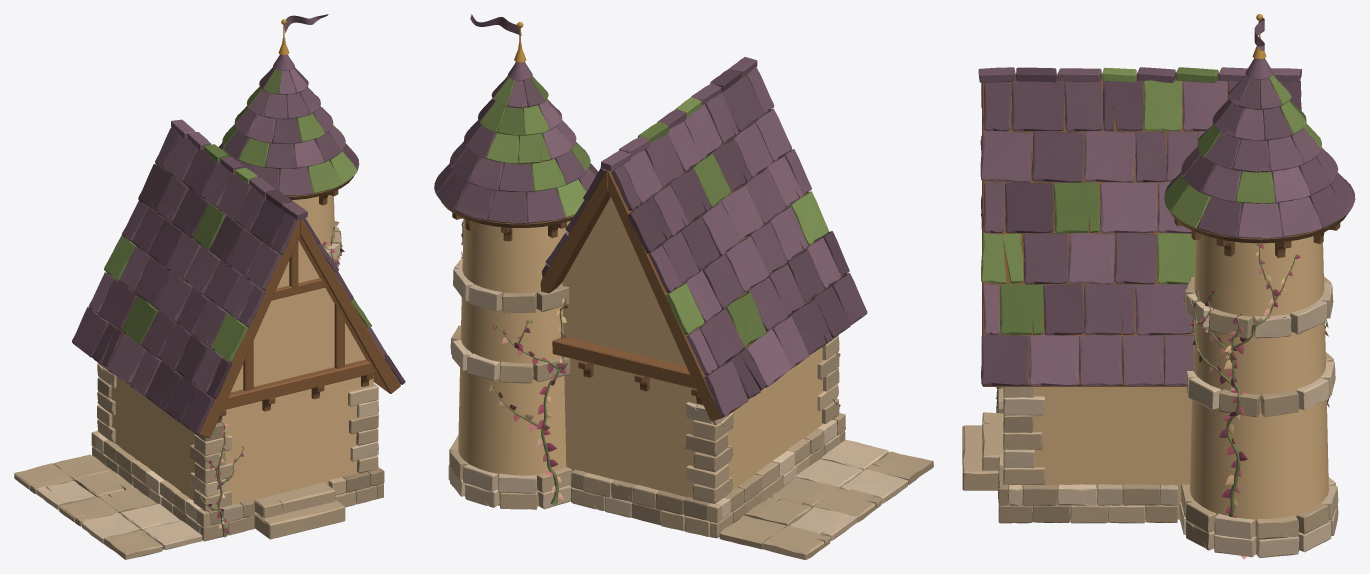
File: mayor_house.glb
3 views of the same model, side by side, from view 1: azimuth 30°, elevation 25°; view 2: azimuth 150°, elevation 25°; view 3: azimuth 270°, elevation 25° (orthographic). The views are drawn at different scales.
Parts seen in each view (by area): view 1: Main Roof | Barge board | front left | Tiles, Walls | Ground floor plaster | Plaster, Walls | Ground floor plaster | Bricks, Tower | Cone roof | Tile Cover | Tiles, Ground | Paving left, Walls | Front gable plaster, Door | Threshold | Stone, Main Roof | Barge board | front right | Wood, Main Roof | Barge board | front left | Wood, Timber | Jetty beam | front, Main Roof | Ridge, Tower | Wall | Plaster (+4 smaller); view 2: Main Roof | Barge board | front left | Tiles, Walls | Ground floor plaster | Plaster, Tower | Wall | Plaster, Tower | Cone roof | Tile Cover | Tiles, Walls | Ground floor plaster | Bricks, Ground | Paving left, Walls | Attic core, Tower | Wall | Bricks, Main Roof | Barge board | front left | Wood, Timber | Jetty beam | back, Main Roof | Ridge, Vine | Tower (+3 smaller); view 3: Main Roof | Barge board | front right | Tiles, Tower | Wall | Plaster, Tower | Cone roof | Tile Cover | Tiles, Walls | Ground floor plaster | Plaster, Tower | Wall | Bricks, Walls | Ground floor plaster | Bricks, Main Roof | Ridge, Main Roof | Barge board | front right | Wood, Vine | Tower, Door | Threshold | Stone, Tower | Cone roof | Rim, Tower | Eaves ring.
Part boxes in pixels (x1,y1,x2,y2): Main Roof | Barge board | front left | Tiles: (72, 127, 298, 434); Walls | Ground floor plaster | Plaster: (110, 375, 373, 504); Walls | Ground floor plaster | Bricks: (91, 362, 384, 541); Tower | Cone roof | Tile Cover | Tiles: (219, 67, 359, 196); Ground | Paving left: (14, 454, 202, 559); Walls | Front gable plaster: (231, 240, 365, 392); Door | Threshold | Stone: (254, 482, 345, 539); Main Roof | Barge board | front right | Wood: (298, 219, 400, 393); Main Roof | Barge board | front left | Wood: (97, 161, 300, 438); Timber | Jetty beam | front: (223, 359, 375, 409); Main Roof | Ridge: (171, 119, 307, 220); Tower | Wall | Plaster: (292, 195, 334, 248); Main Roof | Barge board | front left | Tiles: (611, 67, 867, 417); Walls | Ground floor plaster | Plaster: (564, 347, 823, 497); Tower | Wall | Plaster: (458, 219, 570, 506); Tower | Cone roof | Tile Cover | Tiles: (434, 76, 598, 223); Walls | Ground floor plaster | Bricks: (570, 335, 845, 538); Ground | Paving left: (719, 440, 933, 559); Walls | Attic core: (562, 197, 685, 366); Tower | Wall | Bricks: (448, 259, 572, 509); Main Roof | Barge board | front left | Wood: (607, 132, 841, 421); Timber | Jetty beam | back: (552, 337, 695, 388); Main Roof | Ridge: (600, 57, 757, 171); Vine | Tower: (460, 220, 567, 505); Main Roof | Barge board | front right | Tiles: (980, 80, 1301, 386); Tower | Wall | Plaster: (1190, 234, 1328, 554); Tower | Cone roof | Tile Cover | Tiles: (1164, 74, 1355, 238); Walls | Ground floor plaster | Plaster: (1008, 387, 1191, 519); Tower | Wall | Bricks: (1179, 276, 1338, 557); Walls | Ground floor plaster | Bricks: (998, 387, 1178, 523); Main Roof | Ridge: (978, 67, 1301, 82); Main Roof | Barge board | front right | Wood: (982, 78, 1300, 386); Vine | Tower: (1183, 243, 1330, 559); Door | Threshold | Stone: (962, 412, 1003, 490); Tower | Cone roof | Rim: (1170, 212, 1347, 243); Tower | Eaves ring: (1174, 219, 1340, 257).
Size of the model in its own units: 9 by 10.74 by 7.4.
